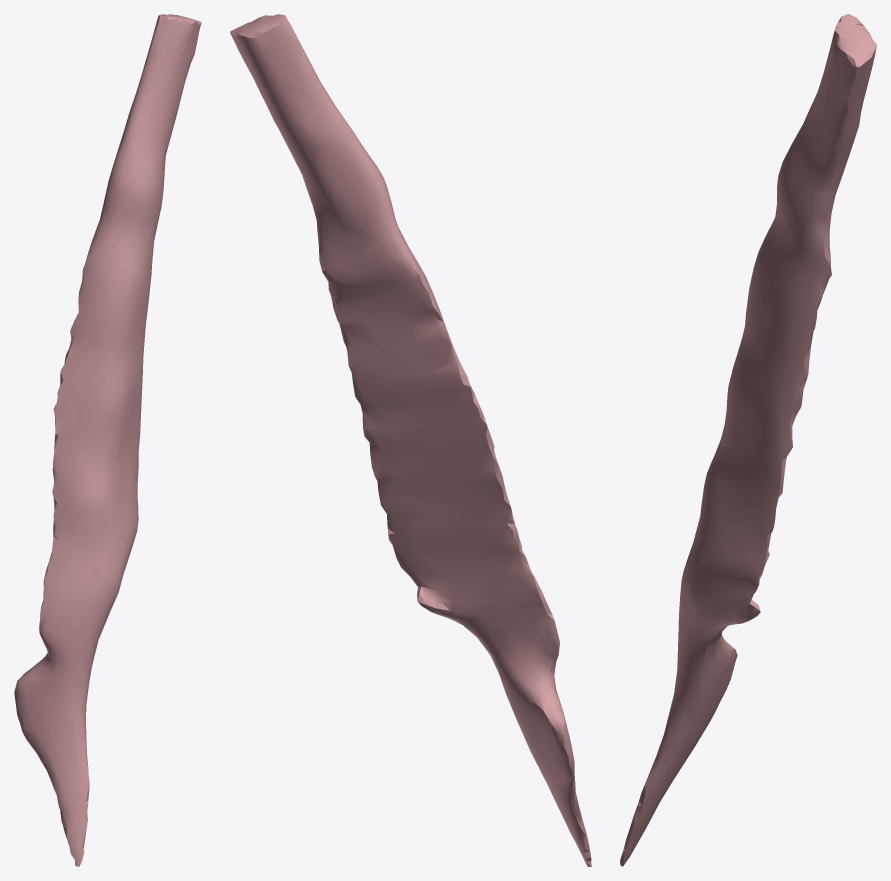
File: fma297768_mm2250.glb
3 renders of one model, left to right at view 1: azimuth 30°, elevation 25°; view 2: azimuth 150°, elevation 25°; view 3: azimuth 270°, elevation 25°, orthographic. The views are drawn at different scales.
Parts seen in each view (by area): view 1: FMA297768_MM2250; view 2: FMA297768_MM2250; view 3: FMA297768_MM2250.
Boxes of the visible parts, box(x1,y1,x2,y2) form: FMA297768_MM2250: box(14, 14, 201, 866); FMA297768_MM2250: box(230, 14, 591, 866); FMA297768_MM2250: box(620, 14, 876, 866).
Bounding box in the file's own units: 0.0381 × 0.1147 × 0.0278.
